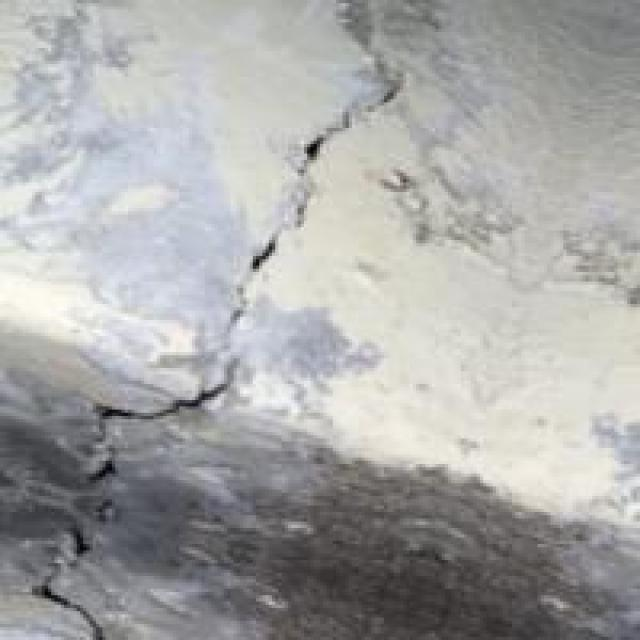crack: (42, 80, 403, 627)
